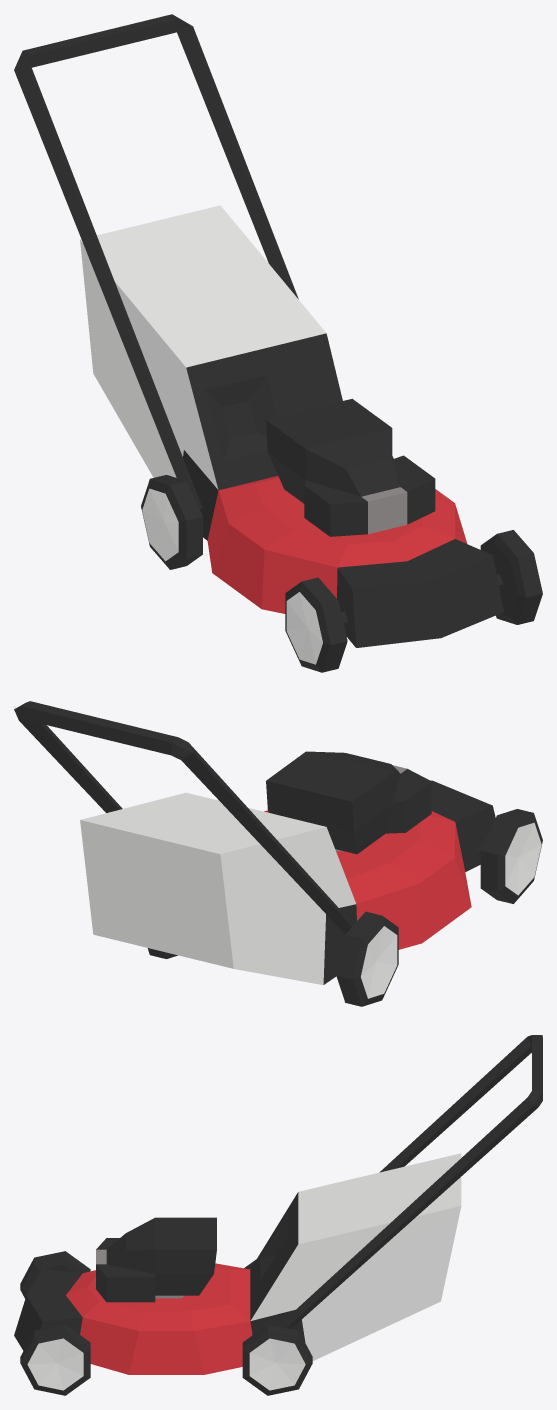
File: lawn-mower.glb
3 views of the same model, one above another, from view 1: azimuth 30°, elevation 25°; view 2: azimuth 150°, elevation 25°; view 3: azimuth 270°, elevation 25° (orthographic). The views are drawn at different scales.
Parts seen in each view (by area): view 1: lawn-mower; view 2: lawn-mower; view 3: lawn-mower.
Boxes of the visible parts, x1=… form: lawn-mower: x1=14, y1=14, x2=542, y2=672; lawn-mower: x1=14, y1=701, x2=542, y2=1006; lawn-mower: x1=14, y1=1035, x2=542, y2=1395.
Bounding box in the file's own units: 0.6902 × 1.15 × 1.88.
Materials: 1 (1 with a texture image).
